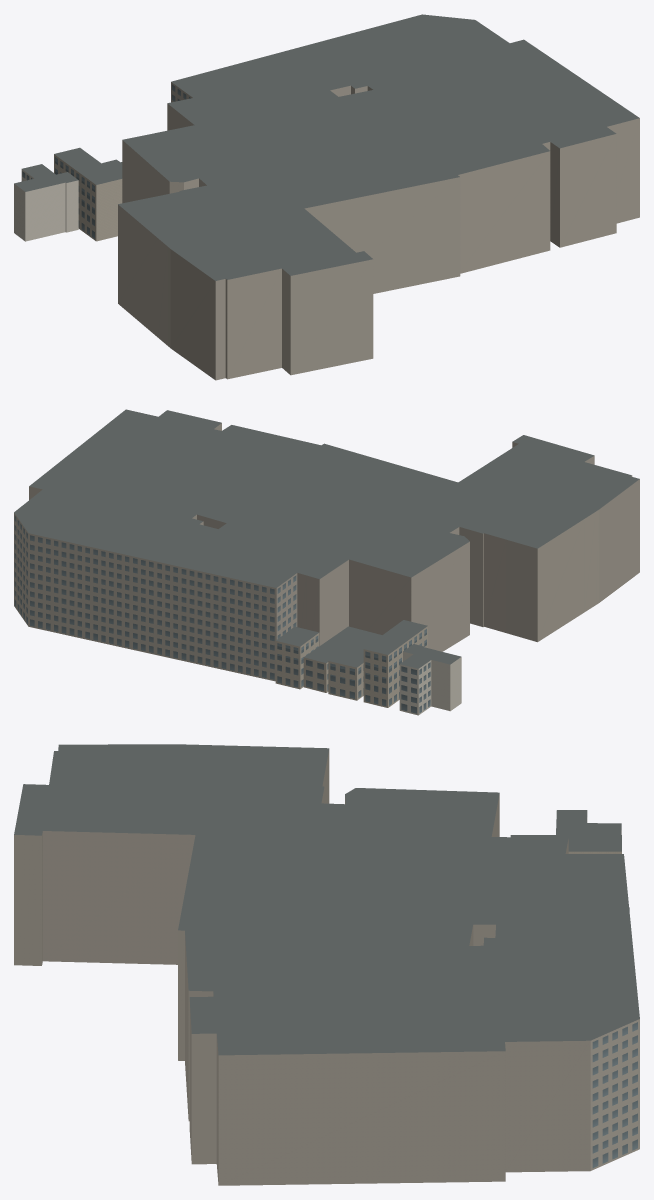
The picture shows the model from 3 angles, top to bottom: view 1: azimuth 30°, elevation 25°; view 2: azimuth 150°, elevation 25°; view 3: azimuth 270°, elevation 25°; orthographic projection. The views are drawn at different scales.
Visible parts, largest first — view 1: cell-e007-s001_base_roof, cell-e007-s001_base_tile-wall, cell-e007-s001_base_plaster, cell-e007-s001_base_stone, cell-e007-s001_base_glass; view 2: cell-e007-s001_base_roof, cell-e007-s001_base_tile-wall, cell-e007-s001_base_glass, cell-e007-s001_base_stone, cell-e007-s001_base_plaster; view 3: cell-e007-s001_base_roof, cell-e007-s001_base_tile-wall, cell-e007-s001_base_glass.
Boxes of the visible parts, x1,y1,x2,y2 form: cell-e007-s001_base_roof: (14, 14, 639, 280); cell-e007-s001_base_tile-wall: (118, 82, 639, 380); cell-e007-s001_base_plaster: (14, 169, 78, 241); cell-e007-s001_base_stone: (54, 154, 122, 241); cell-e007-s001_base_glass: (22, 84, 190, 238); cell-e007-s001_base_roof: (14, 409, 639, 668); cell-e007-s001_base_tile-wall: (14, 423, 639, 681); cell-e007-s001_base_glass: (14, 515, 430, 713); cell-e007-s001_base_stone: (275, 626, 427, 707); cell-e007-s001_base_plaster: (399, 647, 461, 715); cell-e007-s001_base_roof: (14, 744, 639, 1055); cell-e007-s001_base_tile-wall: (14, 750, 639, 1185); cell-e007-s001_base_glass: (592, 1022, 637, 1167).
Size of the model in its own units: 162 by 31.62 by 138.
5 materials, 4 textured.
